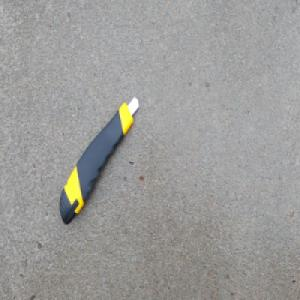Cutter: (59, 93, 140, 225)
